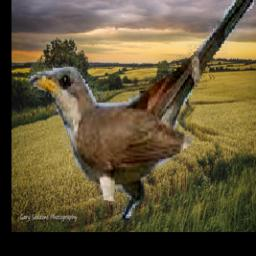Cuckoo: (28, 0, 256, 226)
